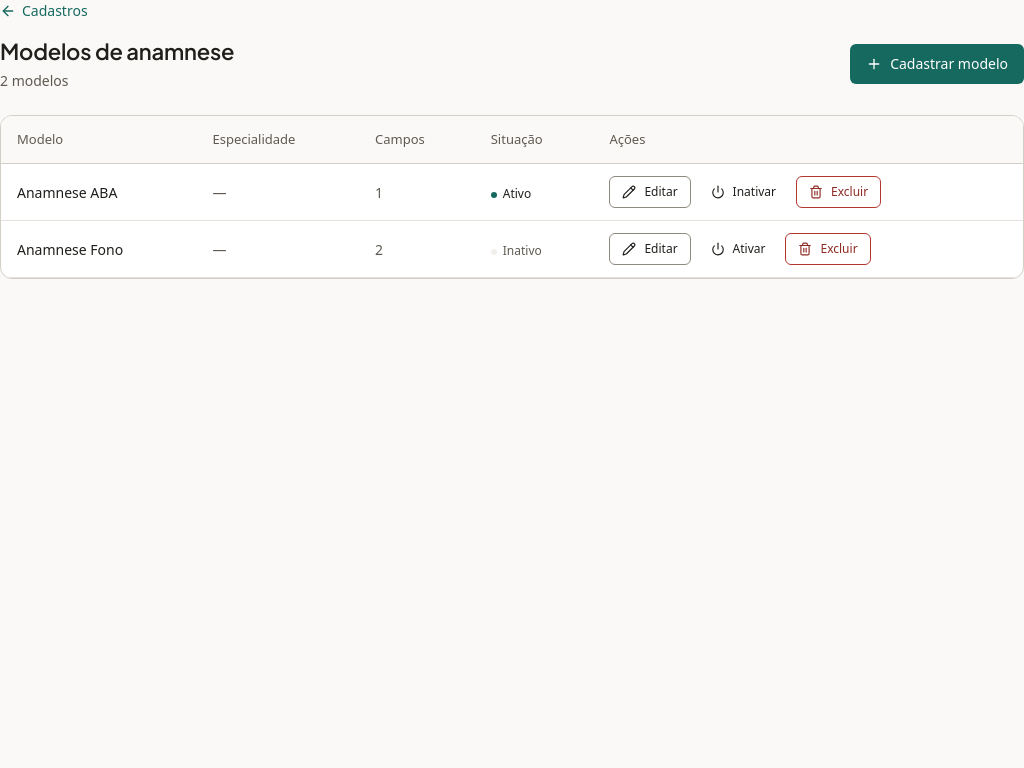
Test: Modelos de anamnese — builder de campos › deve bloquear o envio de um modelo sem nenhum campo
The width and height of the screenshot is (1024, 768).
Expected: the row "Anamnese ABA — 1 Ativo Editar Inativar Excluir" is shown, [1,164,1023,221]
Click the button "Cadastrar modelo" at (937, 64), box [850,44,1023,84]
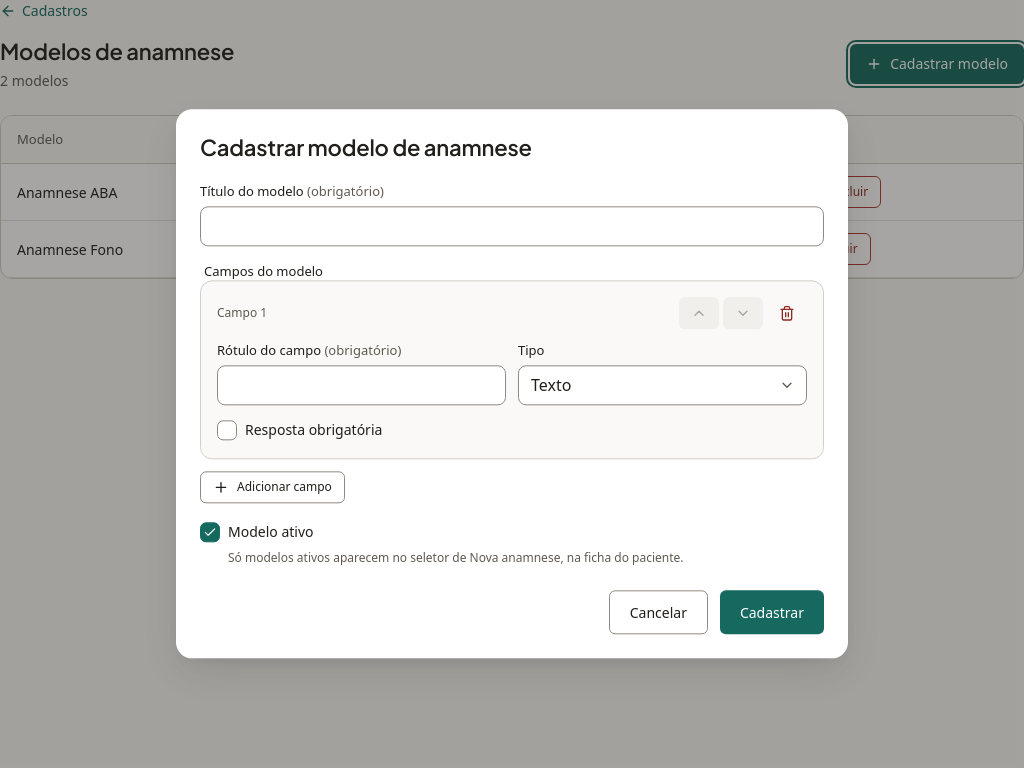
Type "Vazio" into the field labelled "Título do modelo (obrigatório)" at (512, 226), box [200,206,824,246]
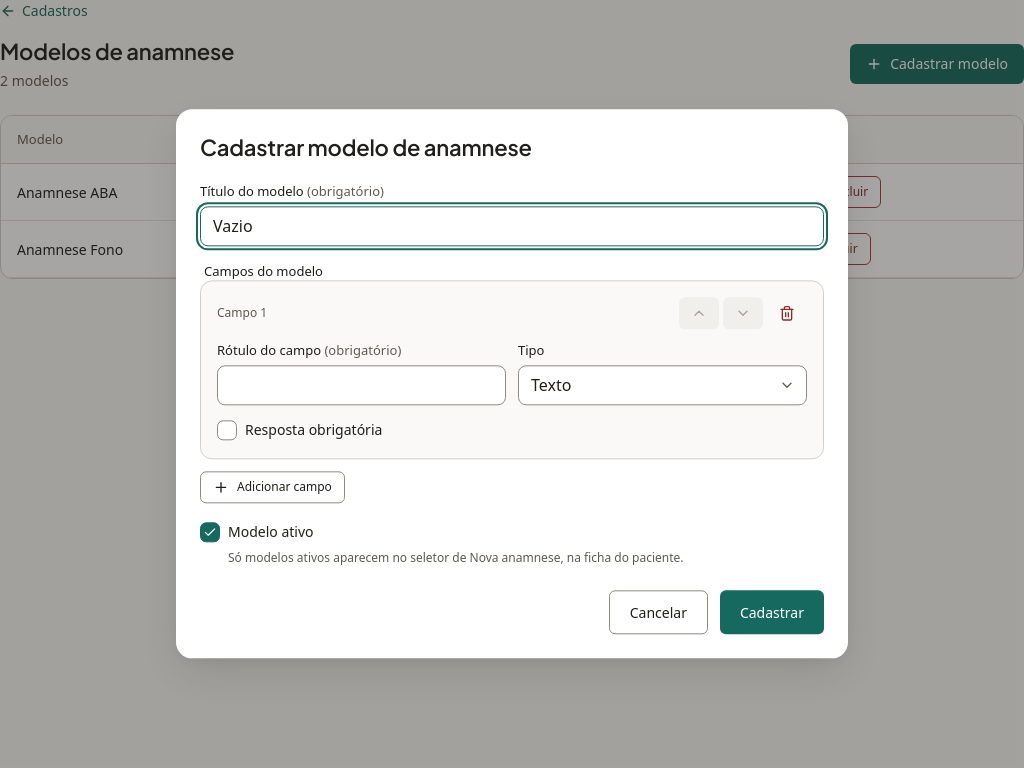
Click the button named "Remover o campo 1" at (787, 313), box [767,297,807,329]
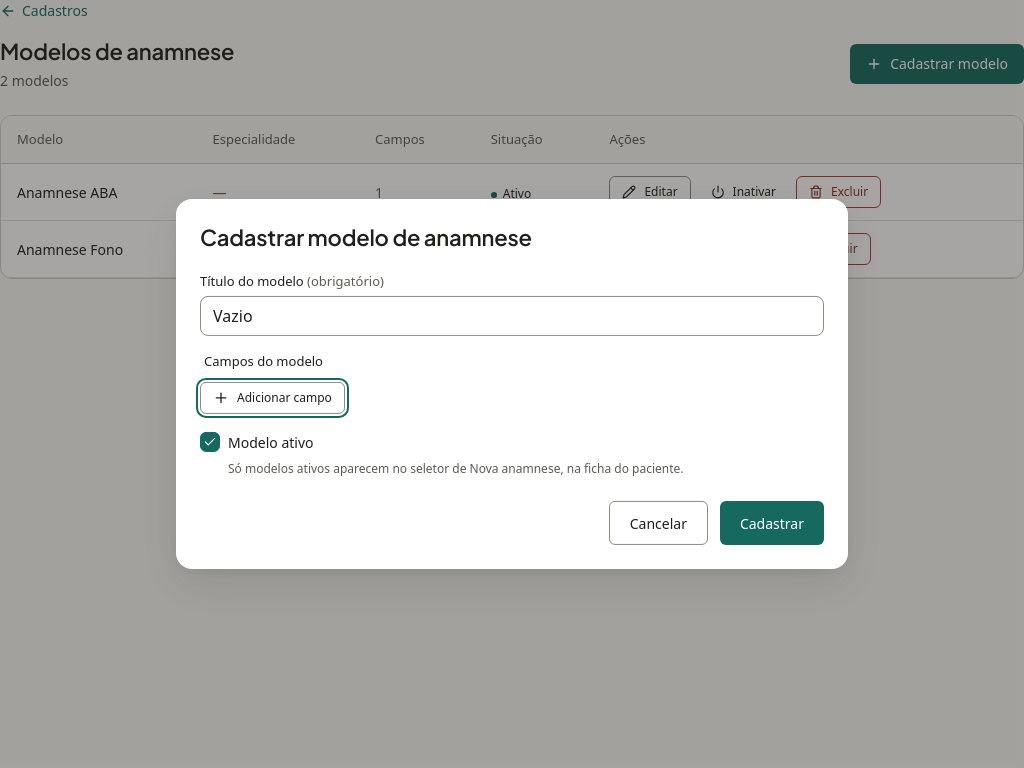
Click the button "Cadastrar" at (772, 523), box [720,501,824,545]
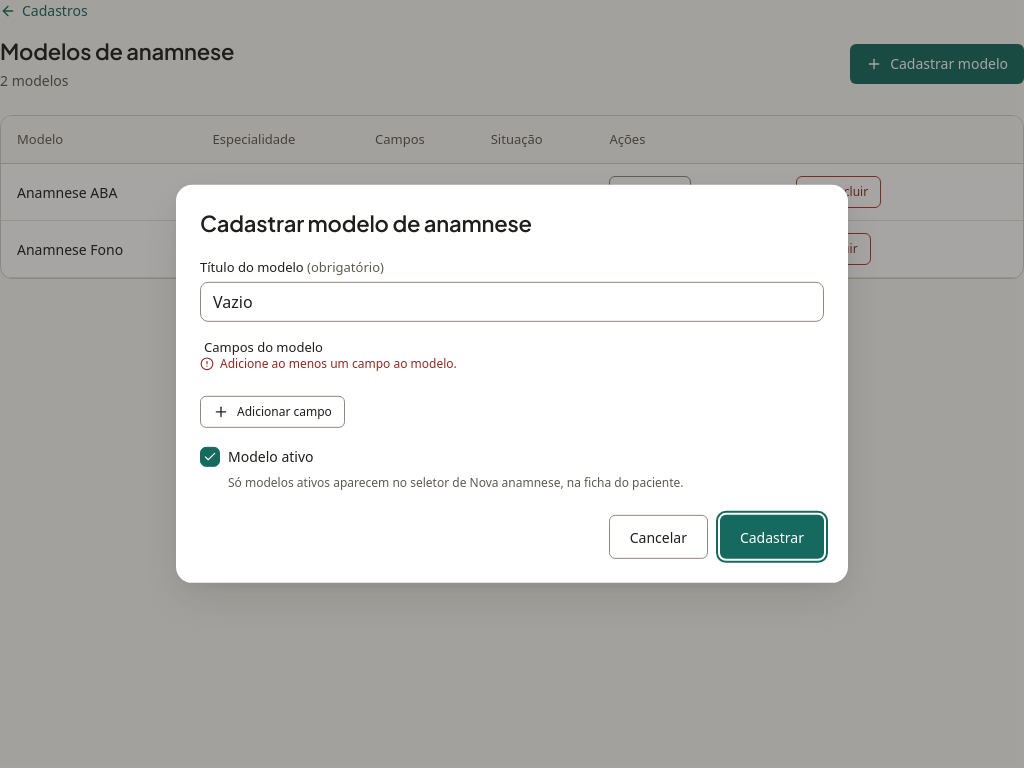
Now the text "Adicione ao menos um campo ao modelo." is shown, box [200,355,457,372]
